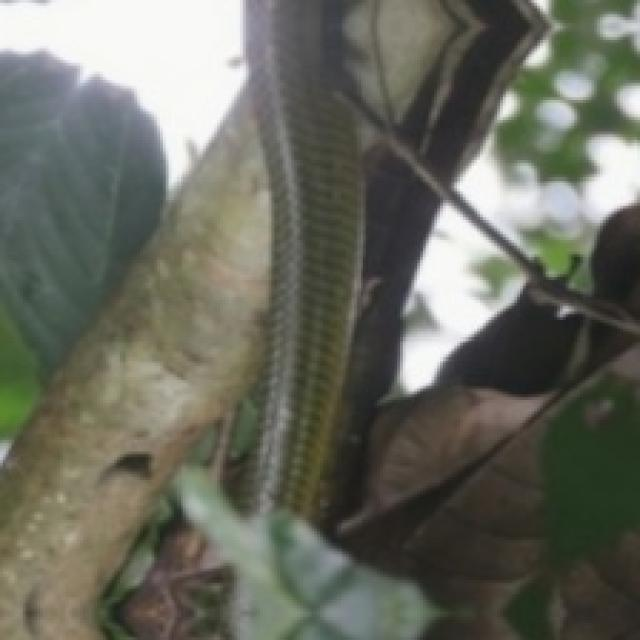red-tailed green ratsnake: (246, 0, 360, 511)
